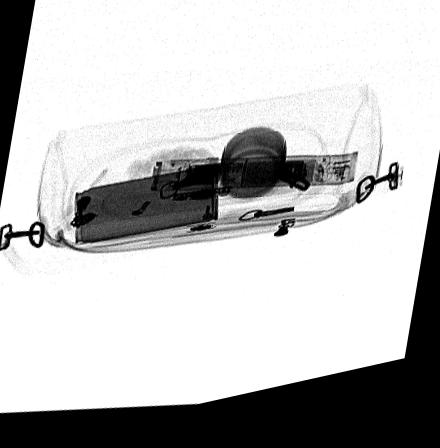Baton: (149, 165, 359, 201)
